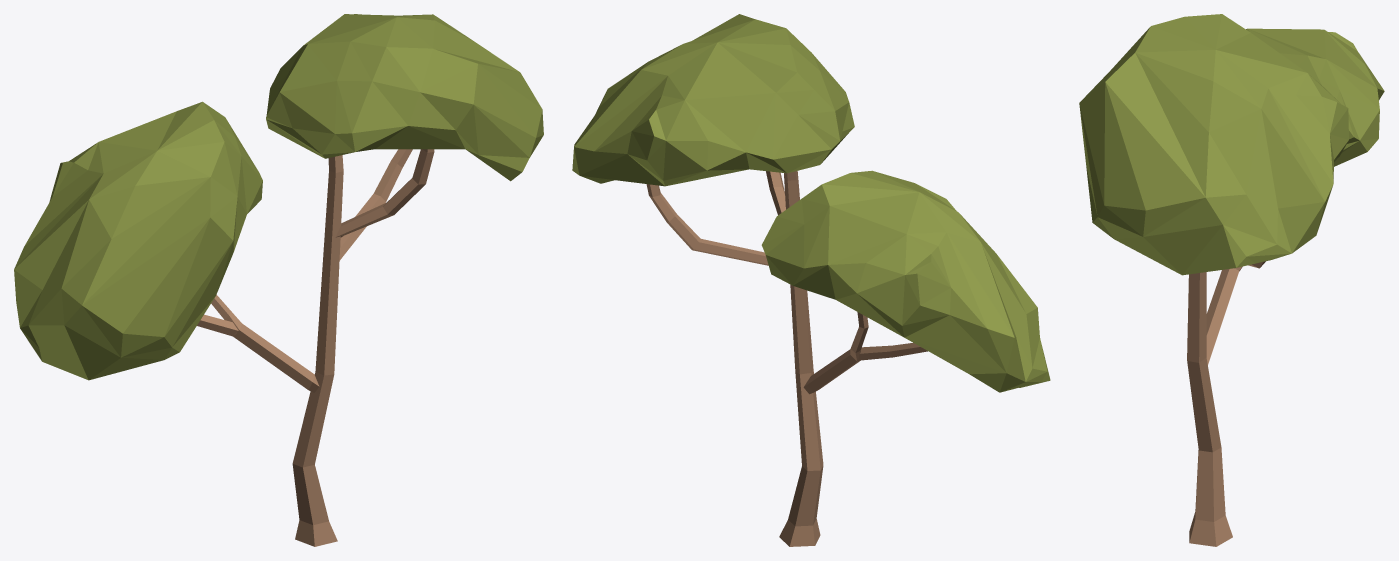
File: LowPoly Tree_003.fbx
The picture shows the model from 3 angles, left to right: view 1: azimuth 30°, elevation 25°; view 2: azimuth 150°, elevation 25°; view 3: azimuth 270°, elevation 25°; orthographic projection. The views are drawn at different scales.
Parts seen in each view (by area): view 1: LowPolyTree002; view 2: LowPolyTree002; view 3: LowPolyTree002.
Part boxes in pixels (x1,y1,x2,y2): LowPolyTree002: [14, 14, 543, 546]; LowPolyTree002: [572, 14, 1050, 546]; LowPolyTree002: [1079, 14, 1384, 546].
Bounding box in the file's own units: 138 × 135 × 70.08.
